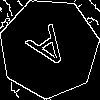A: (24, 23, 78, 80)
